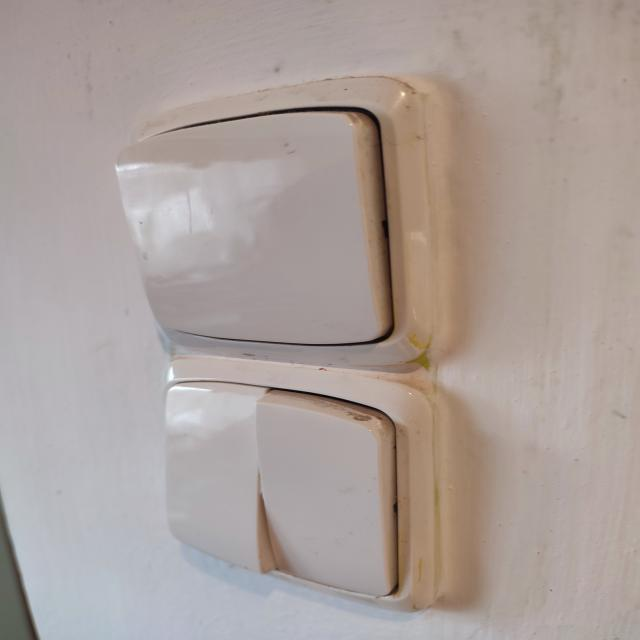house switch: (119, 77, 435, 366)
house switch double: (163, 363, 430, 611)
